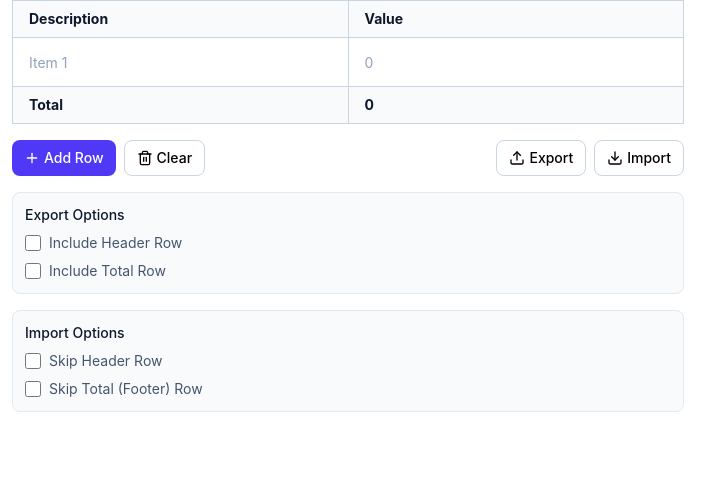
Test: ColumnSumTable › Sum Calculation › should calculate sum with floating-point numbers
Click the button "Add Row": click(64, 158) [12,140,116,176]
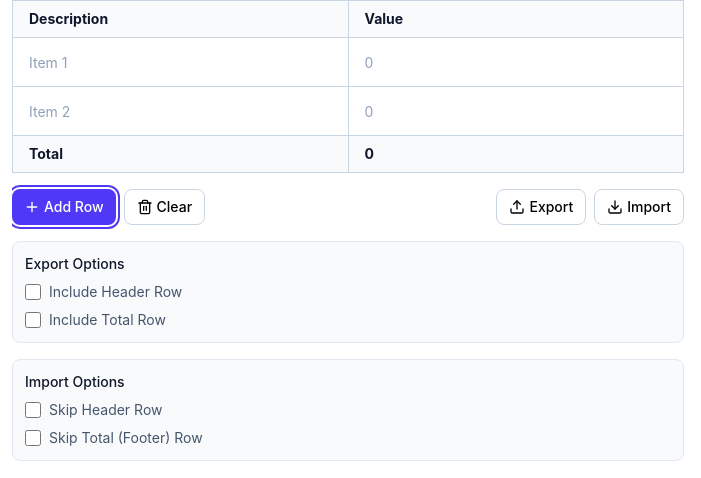
In the field named "value": (516, 62) [352,42,679,82], type "10.5"
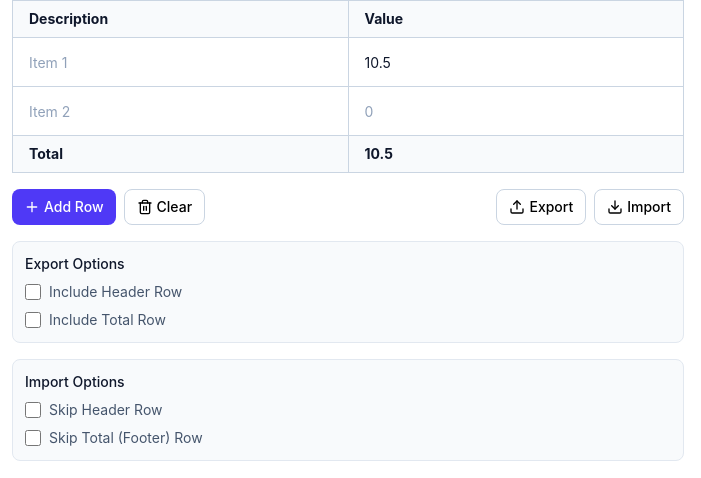
In the field named "value": (516, 111) [352,91,679,131], type "20.3"
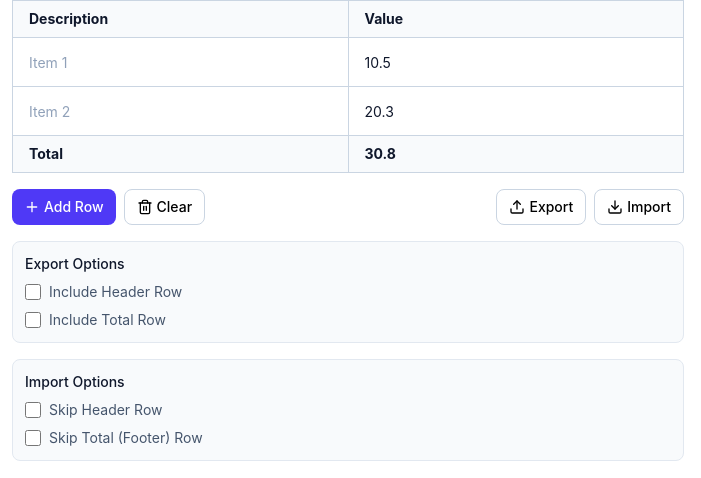
expect the text "Total" shows "30.8": met, box [364,145,396,162]
